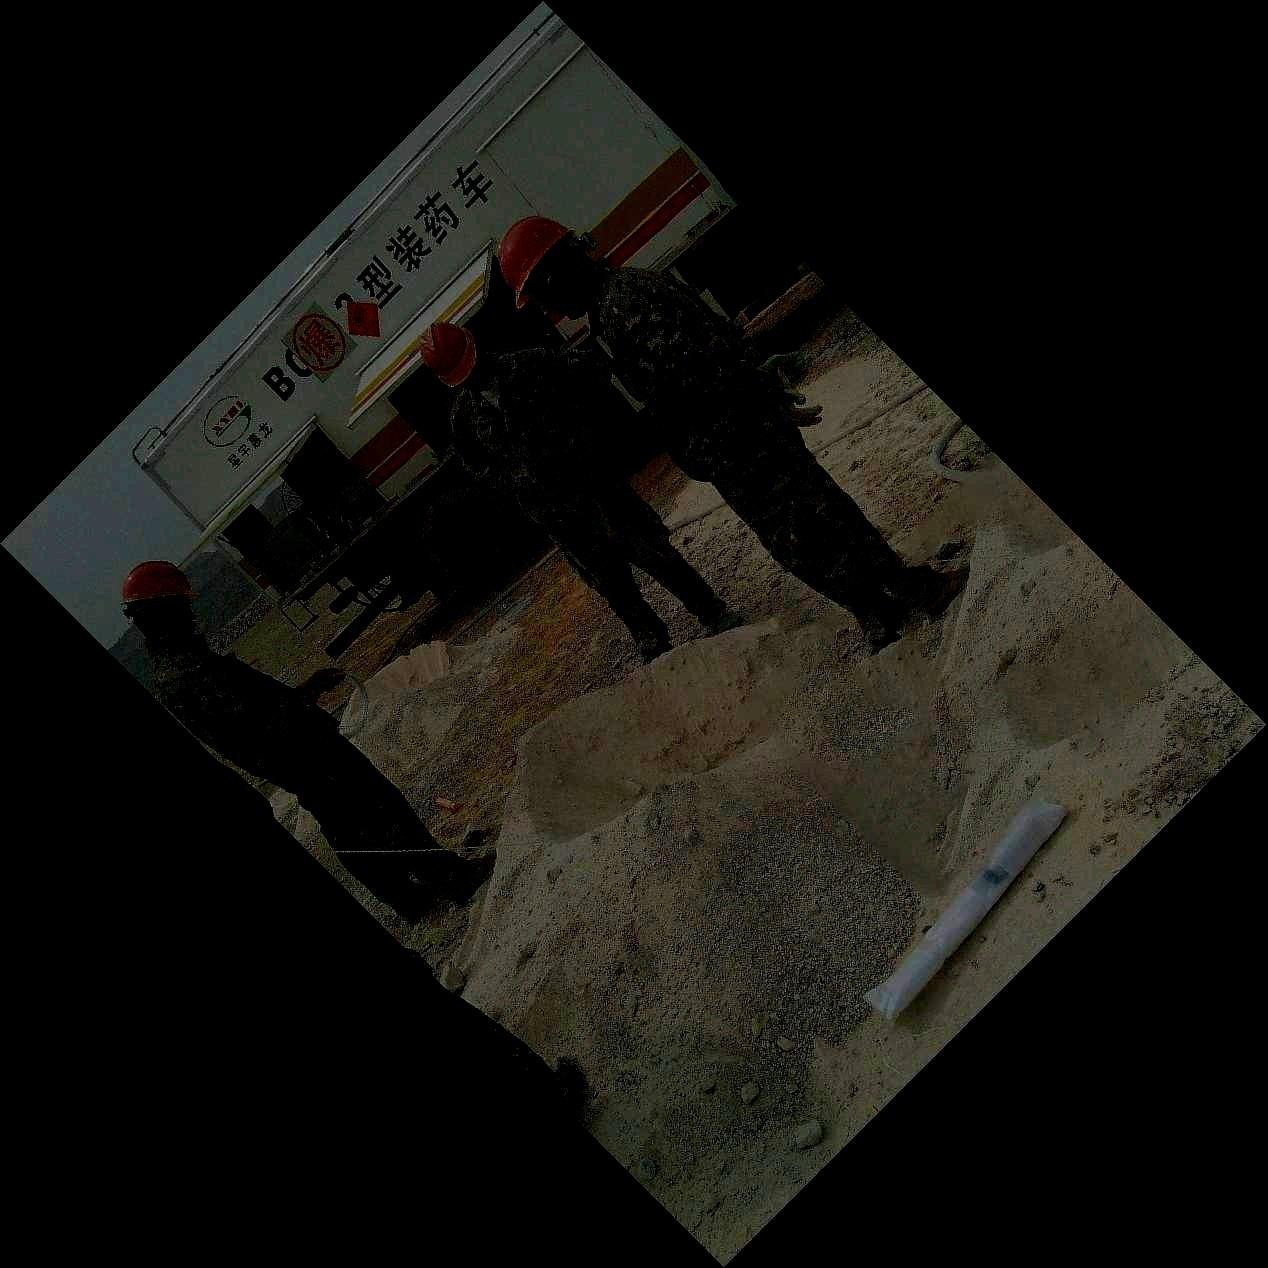helmet: (497, 215, 603, 320), (118, 559, 201, 644), (418, 320, 477, 388)
